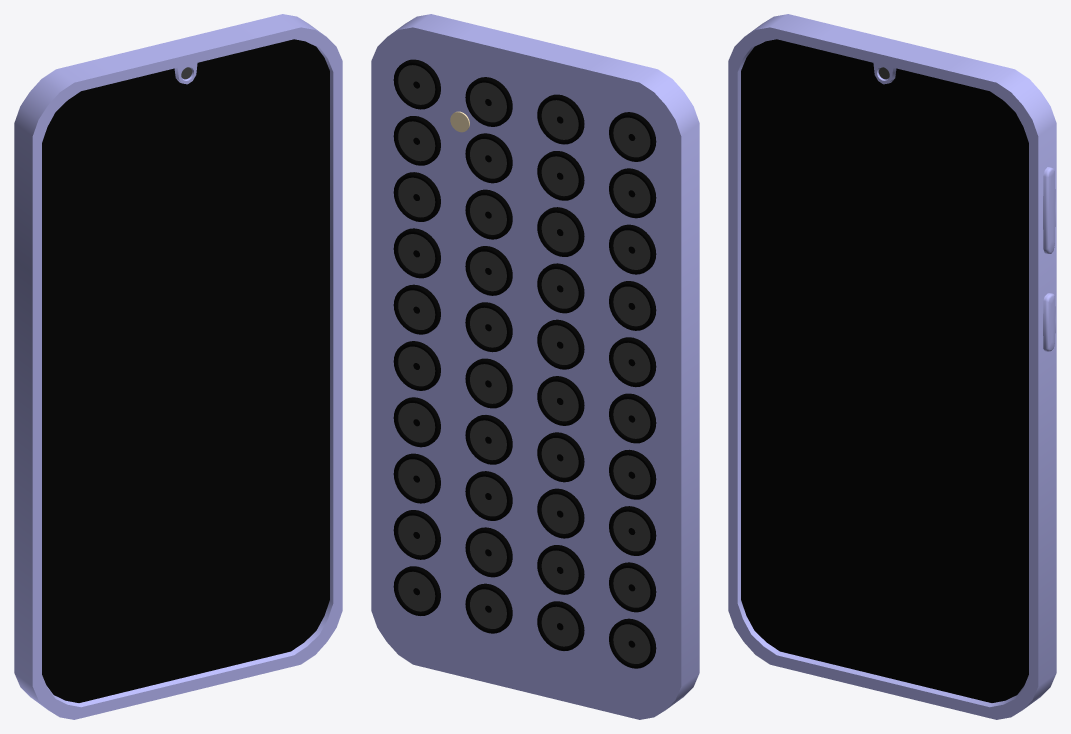
Rendered from Reject5.fbx.
3 views of the same model, side by side, from view 1: azimuth 30°, elevation 25°; view 2: azimuth 150°, elevation 25°; view 3: azimuth 330°, elevation 25° (orthographic).
Parts seen in each view (by area): view 1: reject.004; view 2: reject.004; view 3: reject.004.
Boxes of the visible parts, x1,y1,x2,y2 form: reject.004: [14, 14, 342, 719]; reject.004: [371, 14, 699, 719]; reject.004: [728, 14, 1056, 719].
Size of the model in its own units: 1.13 by 2.18 by 0.1292.
